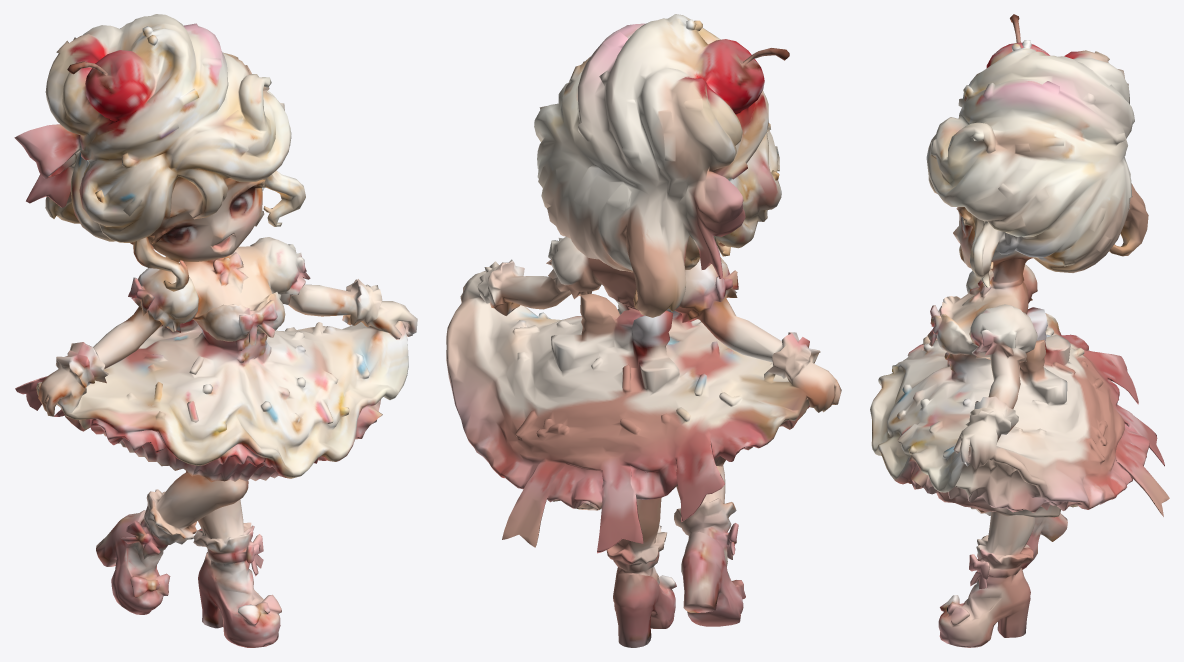
Rendered from cupcake_painted.glb.
The picture shows the model from 3 angles, left to right: view 1: azimuth 30°, elevation 25°; view 2: azimuth 150°, elevation 25°; view 3: azimuth 270°, elevation 25°; orthographic projection. The views are drawn at different scales.
Visible parts, largest first — view 1: Body; view 2: Body; view 3: Body.
Part boxes in pixels (box(x1,y1,x2,y2)): Body: box(14, 14, 417, 647); Body: box(446, 14, 841, 647); Body: box(870, 14, 1169, 647).
Bounding box in the file's own units: 0.6141 × 0.9944 × 0.4766.
1 material, 1 textured.
